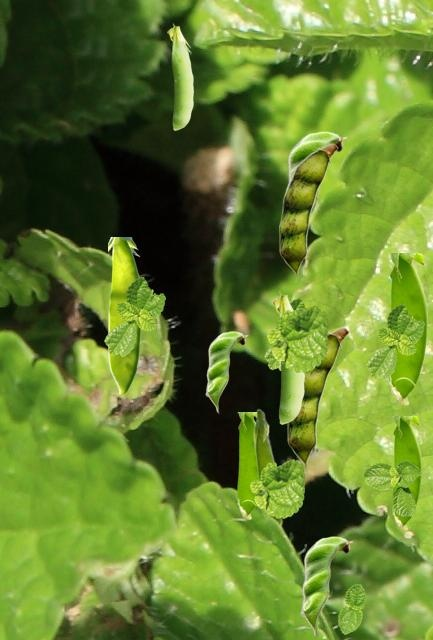pea: (287, 327, 348, 472), (279, 143, 337, 281), (388, 253, 426, 404), (283, 131, 346, 216), (300, 536, 352, 636), (108, 237, 140, 395), (272, 291, 303, 423), (253, 408, 282, 527), (205, 331, 247, 412), (392, 416, 420, 529), (167, 23, 192, 129), (237, 412, 257, 518)
